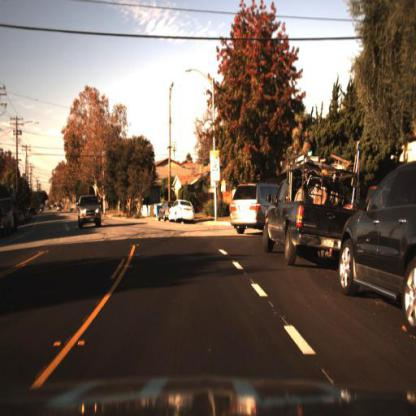car: (337, 160, 416, 327), (262, 155, 367, 261), (230, 185, 282, 231), (78, 193, 102, 233), (169, 198, 197, 222), (158, 201, 169, 224), (54, 202, 67, 214)
truck: (6, 187, 19, 238)
